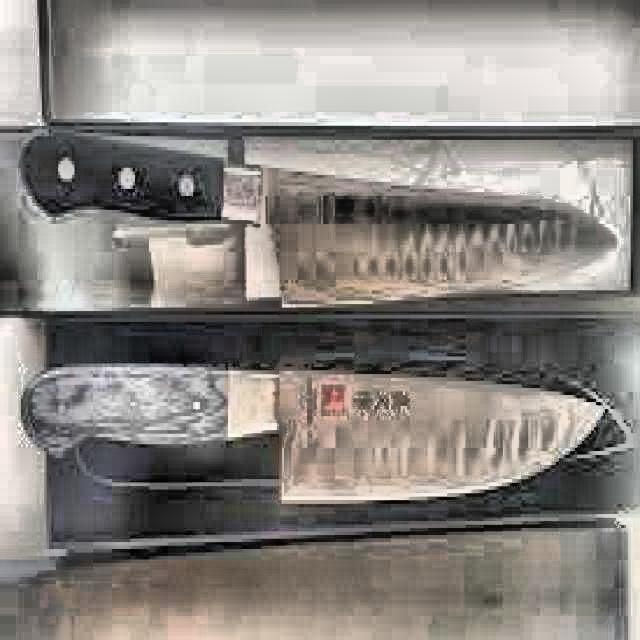knife: (23, 127, 624, 323), (18, 364, 612, 502)
